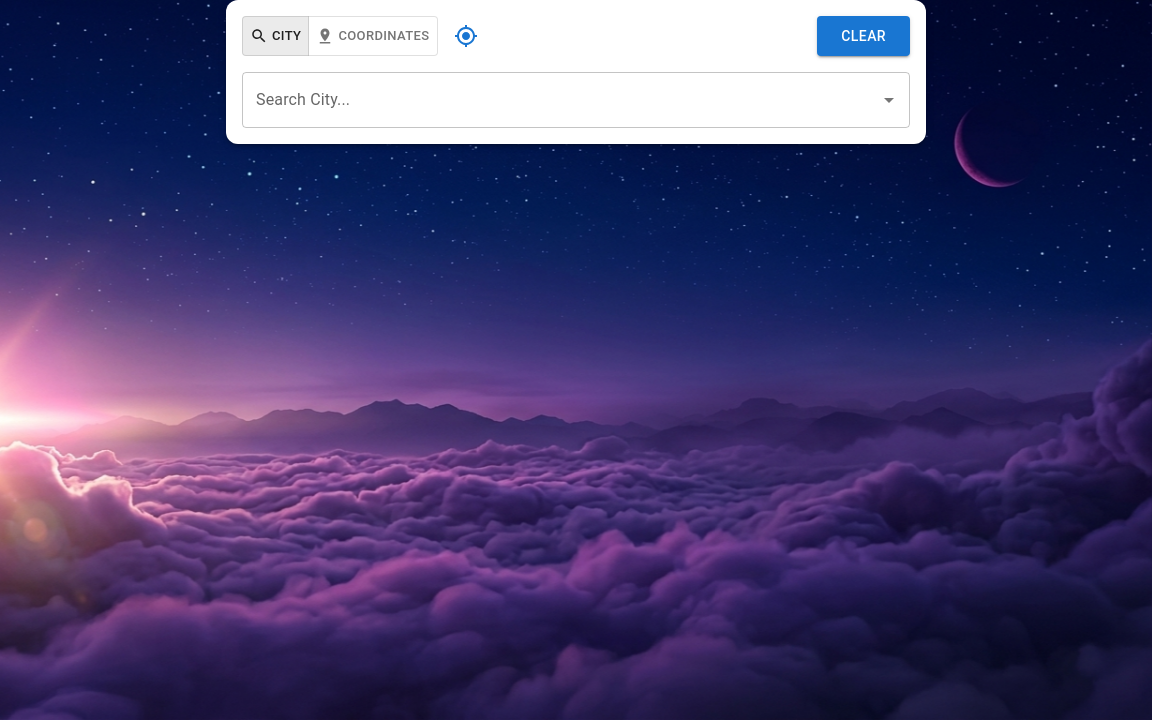
Test: SearchBar Component › Coordinates Mode › validates invalid latitude and displays error alert
This screenshot has width=1152, height=720.
Click the button with aria-label "coordinates search" at (373, 36), box [308,16,438,56]
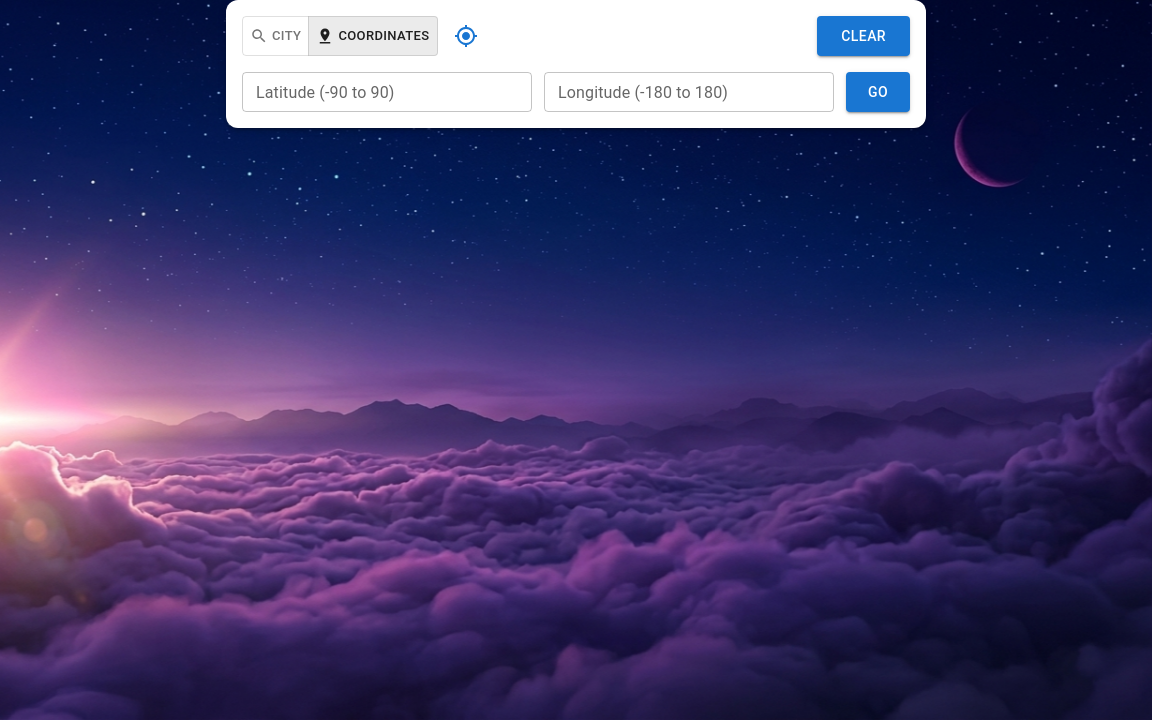
Type "100" into the number field labelled "Latitude (-90 to 90)" at (387, 92), box [242,72,532,112]
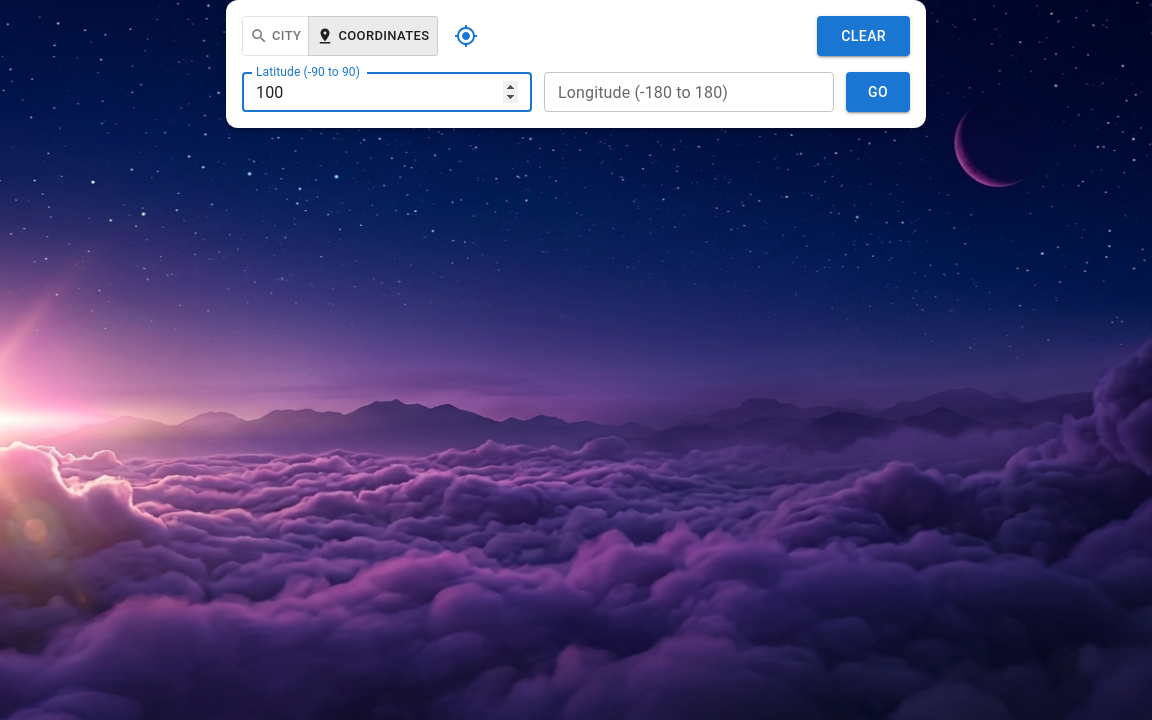
Type "45" into the number field labelled "Longitude (-180 to 180)" at (689, 92), box [544,72,834,112]
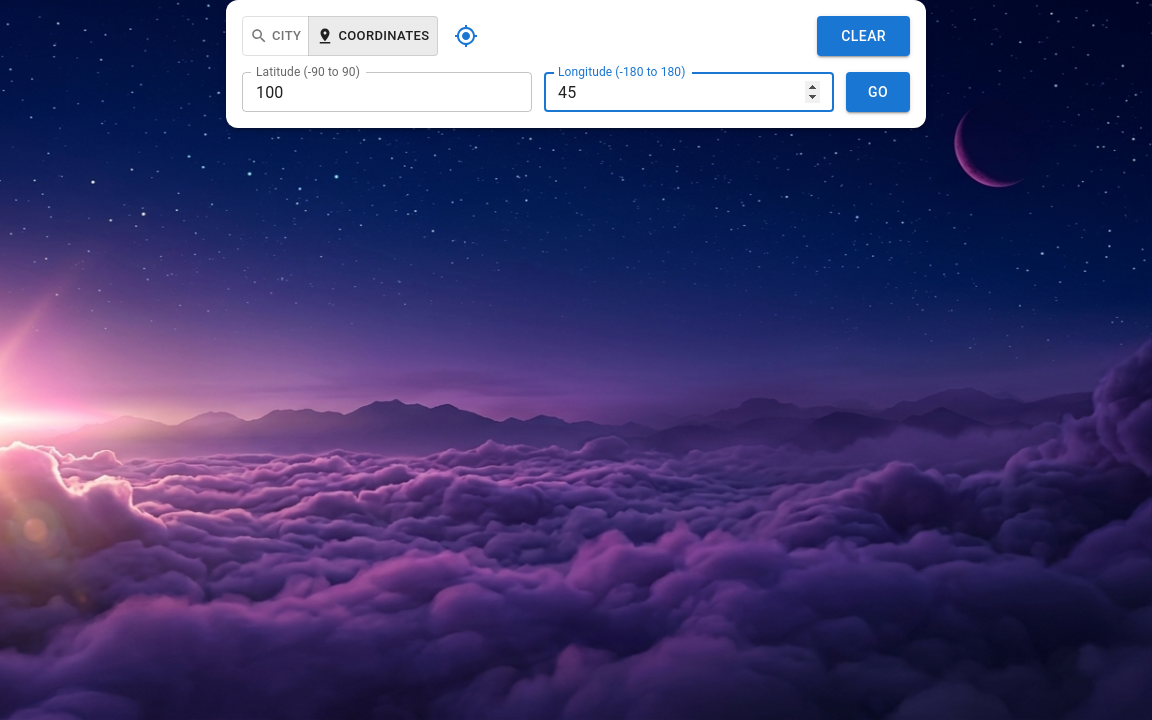
Click the button "Go" at (878, 92), box [846,72,910,112]
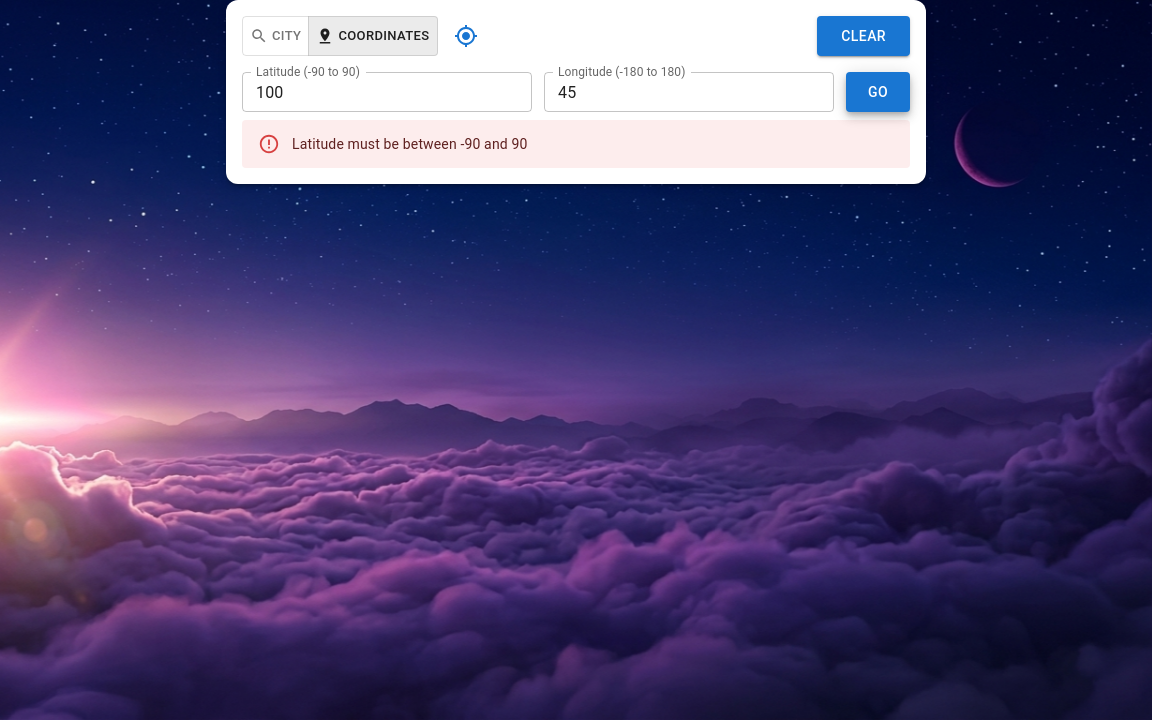
Expected: the text "Latitude must be between -90 and 90" is shown, [292,136,528,152]
